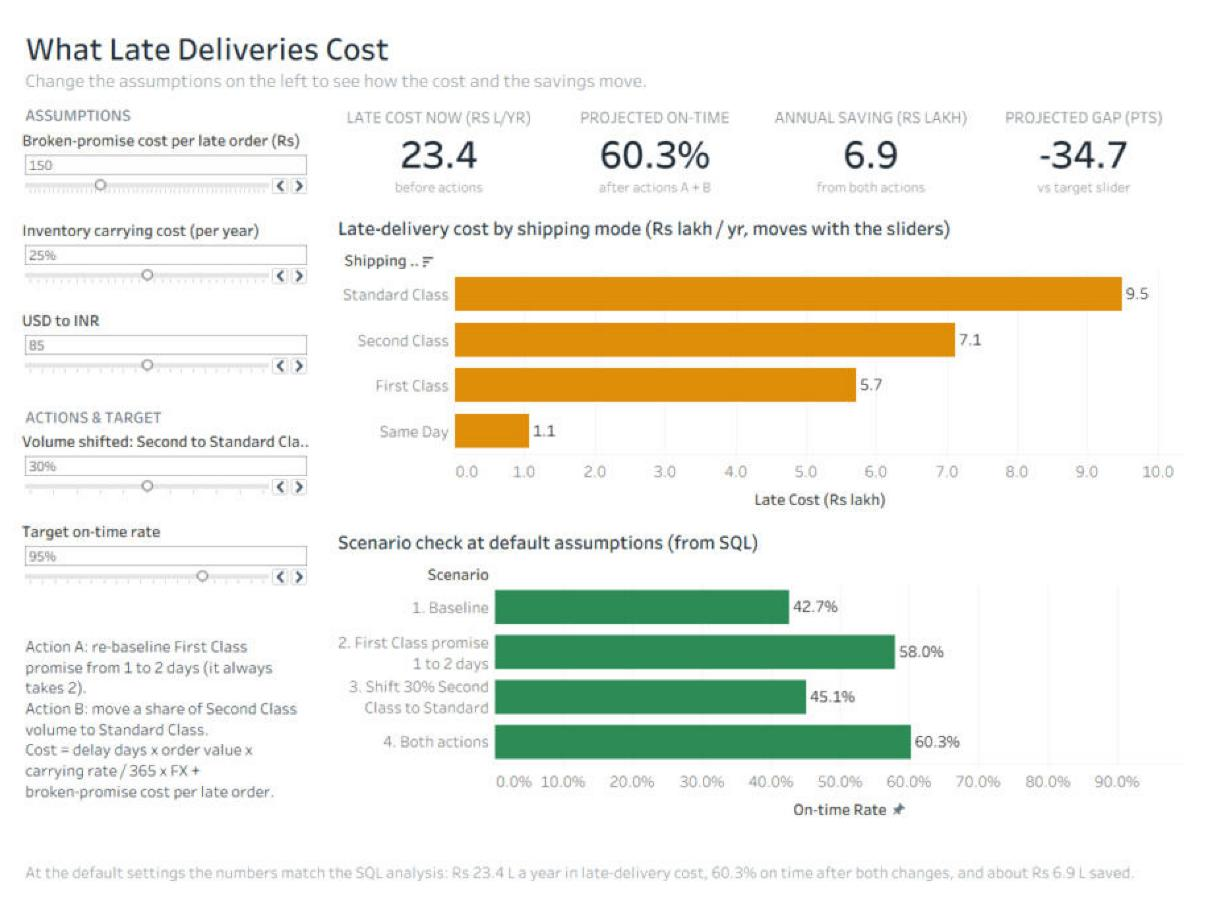

This screenshot's page, from the dashboard's own definition file:
{"tool":"tableau","page":{"name":"Cost Simulator","canvas":[1200,900],"ordinal":2},"visuals":[{"type":"text","box":[18,5.4,1164,75.6]},{"type":"text","box":[18,84.6,288,27]},{"type":"worksheet","title":"Sim KPI Cost","mark":"Text","box":[330,84.6,210,99]},{"type":"worksheet","title":"Sim KPI Projected","mark":"Text","box":[546,84.6,210,99]},{"type":"worksheet","title":"Sim KPI Saving","mark":"Text","box":[762,84.6,210,99]},{"type":"worksheet","title":"Sim KPI Gap","mark":"Text","box":[978,84.6,204,99]},{"type":"parameter","param":"[Parameters].[Parameter 2]","box":[18,112.5,288,85.5]},{"type":"worksheet","title":"Cost by Mode","mark":"Bar","rows":["Shipping Mode"],"cols":["Calculation_9105"],"box":[330,193.5,852,306]},{"type":"parameter","param":"[Parameters].[Parameter 3]","box":[18,202.5,288,85.5]},{"type":"parameter","param":"[Parameters].[Parameter 4]","box":[18,292.5,288,85.5]},{"type":"text","box":[18,387,288,27]},{"type":"parameter","param":"[Parameters].[Parameter 5]","box":[18,414,288,85.5]},{"type":"parameter","param":"[Parameters].[Parameter 1]","box":[18,504,288,85.5]},{"type":"worksheet","title":"Scenarios","mark":"Bar","rows":["Scenario"],"cols":["On-time Rate"],"box":[330,508.5,852,301.5]},{"type":"text","box":[18,598.5,288,207]},{"type":"text","box":[18,819,1164,72]}]}

Visuals, with their boxes in screenshot pixels (x1, y1, x2, y2), scaled from the page's 1200x900 canvas onto the 1208x910 screenshot:
text: x1=18, y1=5, x2=1190, y2=82
text: x1=18, y1=86, x2=308, y2=113
"Sim KPI Cost" worksheet (Text marks): x1=332, y1=86, x2=544, y2=186
"Sim KPI Projected" worksheet (Text marks): x1=550, y1=86, x2=761, y2=186
"Sim KPI Saving" worksheet (Text marks): x1=767, y1=86, x2=978, y2=186
"Sim KPI Gap" worksheet (Text marks): x1=985, y1=86, x2=1190, y2=186
parameter: x1=18, y1=114, x2=308, y2=200
"Cost by Mode" worksheet (Bar marks): x1=332, y1=196, x2=1190, y2=505
parameter: x1=18, y1=205, x2=308, y2=291
parameter: x1=18, y1=296, x2=308, y2=382
text: x1=18, y1=391, x2=308, y2=419
parameter: x1=18, y1=419, x2=308, y2=505
parameter: x1=18, y1=510, x2=308, y2=596
"Scenarios" worksheet (Bar marks): x1=332, y1=514, x2=1190, y2=819
text: x1=18, y1=605, x2=308, y2=814
text: x1=18, y1=828, x2=1190, y2=901
